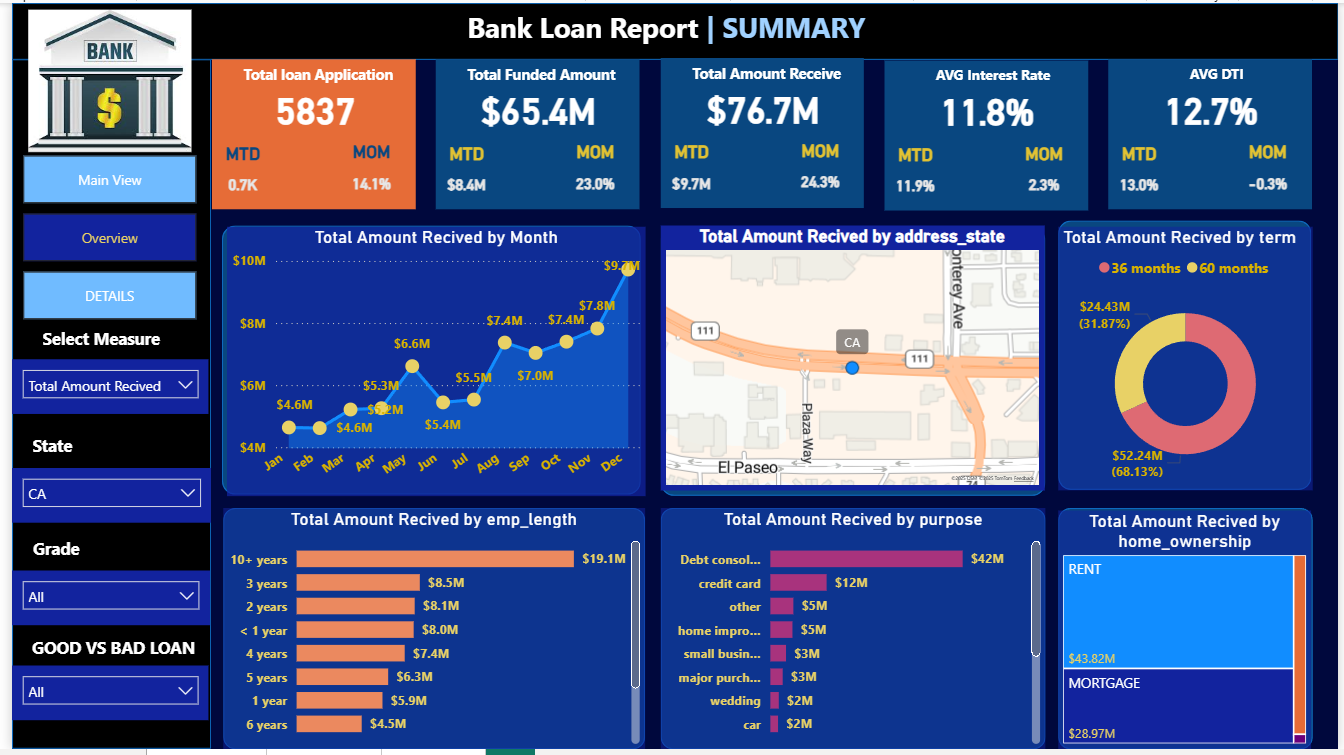

The page's visual inventory and layout, read from the dashboard file:
{"tool":"powerbi","page":{"name":"Main View","canvas":[1280,720],"ordinal":0},"visuals":[{"type":"shape","box":[0,0,1280.3,54.9],"z":0},{"type":"shape","box":[625.8,53.6,196.3,145.1],"z":0,"group":"g3"},{"type":"shape","box":[192.6,54.2,196.7,145.1],"z":0,"group":"g1"},{"type":"shape","box":[409.2,54.2,196.7,145.1],"z":0,"group":"g2"},{"type":"shape","box":[1058.3,54.9,196.7,145.1],"z":0,"group":"g5"},{"type":"shape","box":[842.1,56.1,196.7,145.1],"z":0,"group":"g4"},{"type":"shape","box":[0,54.9,192.1,665.5],"z":1000},{"type":"card","fields":{"Values":["AMeasures.Total Amount Recived"]},"box":[640.7,69.9,169.2,63.7],"z":1000,"group":"g3"},{"type":"card","fields":{"Values":["AMeasures.Total_loan_Application"]},"box":[207.5,70.5,169.5,63.7],"z":1000,"group":"g1"},{"type":"card","fields":{"Values":["AMeasures.Total Funded Amount"]},"box":[424.1,70.5,169.5,63.7],"z":1000,"group":"g2"},{"type":"card","fields":{"Values":["AMeasures.Avg DTI"]},"box":[1073.2,71.2,169.5,63.7],"z":1000,"group":"g5"},{"type":"card","fields":{"Values":["AMeasures.Avg Interest Rate"]},"box":[857,72.4,169.5,63.7],"z":1000,"group":"g4"},{"type":"textbox","box":[651.5,53.6,158.4,32.5],"z":2000,"group":"g3"},{"type":"textbox","box":[218.4,54.2,158.7,32.5],"z":2000,"group":"g1"},{"type":"textbox","box":[435,54.2,158.7,32.5],"z":2000,"group":"g2"},{"type":"textbox","box":[1084.1,54.9,158.7,32.5],"z":2000,"group":"g5"},{"type":"textbox","box":[867.9,56.1,158.7,32.5],"z":2000,"group":"g4"},{"type":"shape","box":[735.2,214.3,522.3,259.7],"z":2000},{"type":"card","title":"MTD","fields":{"Values":["AMeasures.MTD Total Amount recived"]},"box":[625.8,135,59.6,63.7],"z":3000,"group":"g3"},{"type":"card","title":"MTD","fields":{"Values":["AMeasures.MTD Loan Application"]},"box":[192.6,135.6,59.7,63.7],"z":3000,"group":"g1"},{"type":"card","title":"MTD","fields":{"Values":["AMeasures.MTD Funded Amount"]},"box":[409.2,135.6,59.7,63.7],"z":3000,"group":"g2"},{"type":"card","title":"MTD","fields":{"Values":["AMeasures.MTD Avg DTI"]},"box":[1058.3,136.3,59.7,63.7],"z":3000,"group":"g5"},{"type":"card","title":"MTD","fields":{"Values":["AMeasures.MTD Avg Int Rate"]},"box":[842.1,137.5,59.7,63.7],"z":3000,"group":"g4"},{"type":"card","fields":{"Values":["AMeasures.Bad Loan %"]},"box":[780.7,329.3,168.9,63.9],"z":3000},{"type":"card","title":"MOM","fields":{"Values":["AMeasures.MOM Total Amount recived"]},"box":[750.4,133.6,59.6,63.7],"z":4000,"group":"g3"},{"type":"card","title":"MOM","fields":{"Values":["AMeasures.MOM Loan Application"]},"box":[317.4,134.2,59.7,63.7],"z":4000,"group":"g1"},{"type":"card","title":"MOM","fields":{"Values":["AMeasures.MOM Total Funded Amount"]},"box":[534,134.2,59.7,63.7],"z":4000,"group":"g2"},{"type":"card","title":"MOM","fields":{"Values":["AMeasures.MOM Avg DTI"]},"box":[1183.1,134.9,59.7,63.7],"z":4000,"group":"g5"},{"type":"card","title":"MOM","fields":{"Values":["AMeasures.MOM Avg int Rate"]},"box":[966.9,136.1,59.7,63.7],"z":4000,"group":"g4"},{"type":"shape","box":[202.4,214.6,521.9,259.7],"z":4000},{"type":"textbox","box":[228.5,214.3,195.9,32.6],"z":5000},{"type":"card","fields":{"Values":["AMeasures.Good Loan %"]},"box":[241.4,328,169.5,64.6],"z":6000},{"type":"donutChart","fields":{"Category":["Bank loan.GOOD VS BAD LOAB"],"Y":["AMeasures.Total_loan_Application"]},"box":[193,248.5,249.7,230.4],"z":7000},{"type":"textbox","box":[434,0,412.3,67.8],"z":8000},{"type":"group","id":"g1","title":"Group 1","box":[192.6,54.2,196.7,145.1],"z":9000},{"type":"group","id":"g2","title":"Group 1","box":[409.2,54.2,196.7,145.1],"z":10000},{"type":"group","id":"g3","title":"Group 1","box":[625.8,53.6,196.3,145.1],"z":11000},{"type":"group","id":"g4","title":"Group 1","box":[842.1,56.1,196.3,145.1],"z":12000},{"type":"group","id":"g5","title":"Group 1","box":[1058.3,54.9,196.3,145.1],"z":13000},{"type":"cardVisual","fields":{"Data":["AMeasures.Good Loan Application","AMeasures.Good Loan Funded Amount","AMeasures.Good loan recived"]},"box":[424.7,214.7,290.8,243.7],"z":14000},{"type":"donutChart","fields":{"Category":["Bank loan.GOOD VS BAD LOAB"],"Y":["AMeasures.Total_loan_Application"]},"box":[742.3,247,249.8,229.9],"z":15000},{"type":"textbox","box":[748,214.3,237,32.6],"z":16000},{"type":"cardVisual","fields":{"Data":["AMeasures.Bad Loan Application","AMeasures.Bad Loan Funded Amount","AMeasures.Bad loan recived"]},"box":[984.5,223.2,290.8,243.7],"z":17000},{"type":"shape","box":[202.7,486.2,1061.7,234],"z":18000},{"type":"tableEx","fields":{"Values":["Bank loan.loan_status","AMeasures.Total_loan_Application","AMeasures.Total Funded Amount","AMeasures.Total Amount Recived","AMeasures.MTD Funded Amount","AMeasures.MTD Total Amount recived","AMeasures.Avg Interest Rate","AMeasures.Avg DTI"]},"box":[203.4,528,1048.7,172.7],"z":19000},{"type":"textbox","box":[203.4,486.4,188.7,41.7],"z":20000},{"type":"slicer","fields":{"Values":["Bank loan.address_state"]},"box":[0,367.5,192.3,52.7],"z":21000},{"type":"textbox","box":[1.2,328.3,73.5,36.8],"z":22000},{"type":"slicer","fields":{"Values":["Bank loan.grade"]},"box":[1.2,477.8,191.1,52.7],"z":23000},{"type":"textbox","box":[1.2,441,80.9,36.8],"z":24000},{"type":"slicer","fields":{"Values":["Bank loan.purpose"]},"box":[2.5,588.1,189.9,52.7],"z":25000},{"type":"textbox","box":[2.5,548.9,93.1,39.2],"z":26000},{"type":"image","box":[0,11.4,191.4,150],"z":27000},{"type":"pageNavigator","box":[12.9,170,167.1,160],"z":28000}]}

Visuals, with their boxes in screenshot pixels (x1, y1, x2, y2), scaled from the page's 1280x720 canvas onto the 1344x755 screenshot:
shape: [left=0, top=0, right=1343, bottom=58]
shape: [left=657, top=56, right=863, bottom=208]
shape: [left=202, top=57, right=409, bottom=209]
shape: [left=430, top=57, right=636, bottom=209]
shape: [left=1111, top=58, right=1318, bottom=210]
shape: [left=884, top=59, right=1091, bottom=211]
shape: [left=0, top=58, right=202, bottom=754]
card - AMeasures.Total Amount Recived: [left=673, top=73, right=850, bottom=140]
card - AMeasures.Total_loan_Application: [left=218, top=74, right=396, bottom=141]
card - AMeasures.Total Funded Amount: [left=445, top=74, right=623, bottom=141]
card - AMeasures.Avg DTI: [left=1127, top=75, right=1305, bottom=141]
card - AMeasures.Avg Interest Rate: [left=900, top=76, right=1078, bottom=143]
textbox: [left=684, top=56, right=850, bottom=90]
textbox: [left=229, top=57, right=396, bottom=91]
textbox: [left=457, top=57, right=623, bottom=91]
textbox: [left=1138, top=58, right=1305, bottom=92]
textbox: [left=911, top=59, right=1078, bottom=93]
shape: [left=772, top=225, right=1320, bottom=497]
"MTD" card: [left=657, top=142, right=720, bottom=208]
"MTD" card: [left=202, top=142, right=265, bottom=209]
"MTD" card: [left=430, top=142, right=492, bottom=209]
"MTD" card: [left=1111, top=143, right=1174, bottom=210]
"MTD" card: [left=884, top=144, right=947, bottom=211]
card - AMeasures.Bad Loan %: [left=820, top=345, right=997, bottom=412]
"MOM" card: [left=788, top=140, right=850, bottom=207]
"MOM" card: [left=333, top=141, right=396, bottom=208]
"MOM" card: [left=561, top=141, right=623, bottom=208]
"MOM" card: [left=1242, top=141, right=1305, bottom=208]
"MOM" card: [left=1015, top=143, right=1078, bottom=210]
shape: [left=213, top=225, right=761, bottom=497]
textbox: [left=240, top=225, right=446, bottom=259]
card - AMeasures.Good Loan %: [left=253, top=344, right=431, bottom=412]
donutChart - Bank loan.GOOD VS BAD LOAB x AMeasures.Total_loan_Application: [left=203, top=261, right=465, bottom=502]
textbox: [left=456, top=0, right=889, bottom=71]
"Group 1" group: [left=202, top=57, right=409, bottom=209]
"Group 1" group: [left=430, top=57, right=636, bottom=209]
"Group 1" group: [left=657, top=56, right=863, bottom=208]
"Group 1" group: [left=884, top=59, right=1090, bottom=211]
"Group 1" group: [left=1111, top=58, right=1317, bottom=210]
cardVisual - AMeasures.Good Loan Application x AMeasures.Good Loan Funded Amount: [left=446, top=225, right=751, bottom=481]
donutChart - Bank loan.GOOD VS BAD LOAB x AMeasures.Total_loan_Application: [left=779, top=259, right=1042, bottom=500]
textbox: [left=785, top=225, right=1034, bottom=259]
cardVisual - AMeasures.Bad Loan Application x AMeasures.Bad Loan Funded Amount: [left=1034, top=234, right=1339, bottom=490]
shape: [left=213, top=510, right=1328, bottom=754]
tableEx - Bank loan.loan_status x AMeasures.Total_loan_Application: [left=214, top=554, right=1315, bottom=735]
textbox: [left=214, top=510, right=412, bottom=554]
slicer - Bank loan.address_state: [left=0, top=385, right=202, bottom=441]
textbox: [left=1, top=344, right=78, bottom=383]
slicer - Bank loan.grade: [left=1, top=501, right=202, bottom=556]
textbox: [left=1, top=462, right=86, bottom=501]
slicer - Bank loan.purpose: [left=3, top=617, right=202, bottom=672]
textbox: [left=3, top=576, right=100, bottom=617]
image: [left=0, top=12, right=201, bottom=169]
pageNavigator: [left=14, top=178, right=189, bottom=346]
